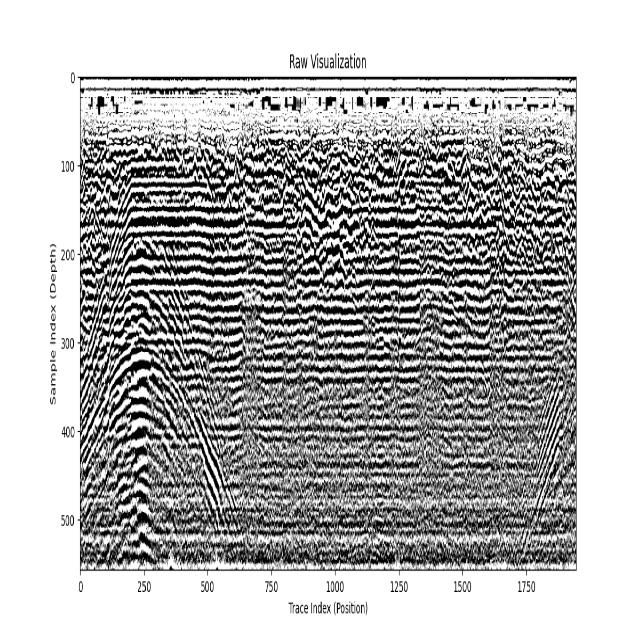anomaly: (82, 180, 256, 566), (516, 332, 576, 566)
